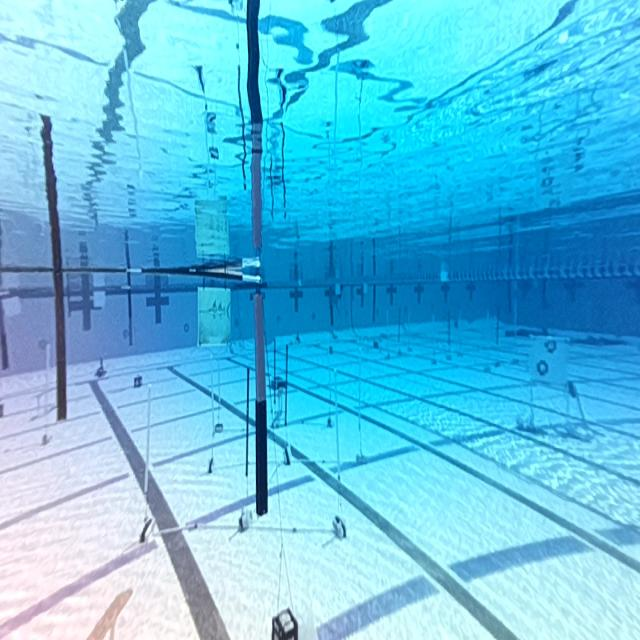pointed_nose: (199, 288, 234, 344)
